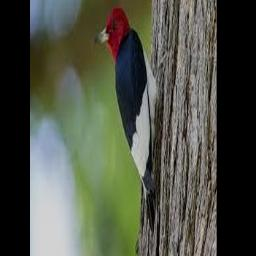Woodpecker: (94, 6, 167, 231)
